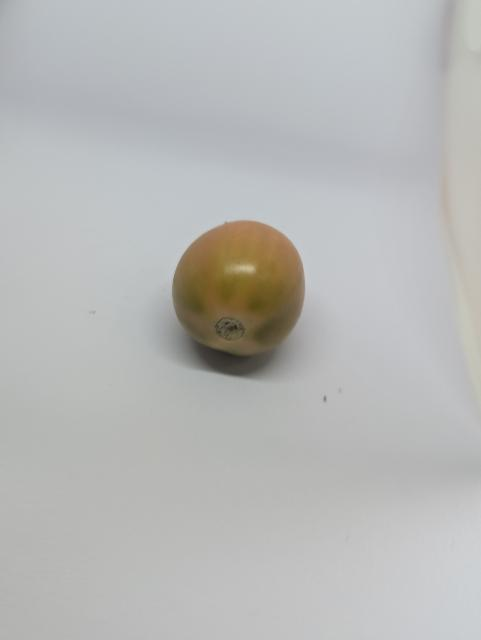turning: (167, 215, 311, 366)
